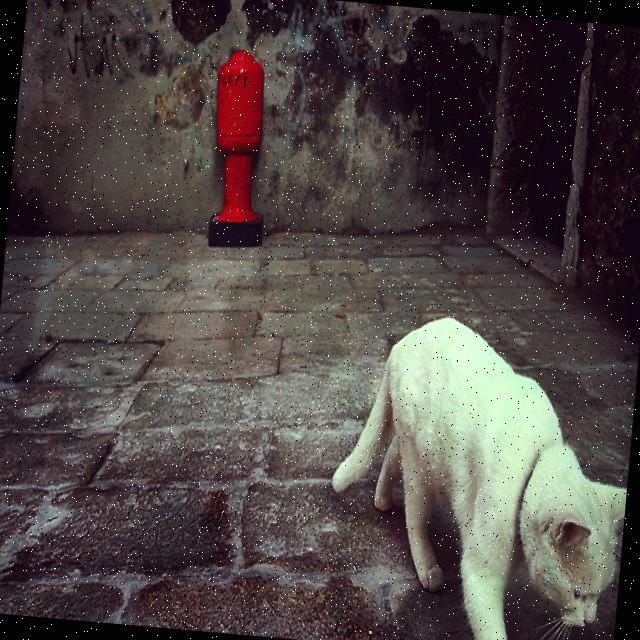fire_hydrant: (204, 44, 278, 252)
